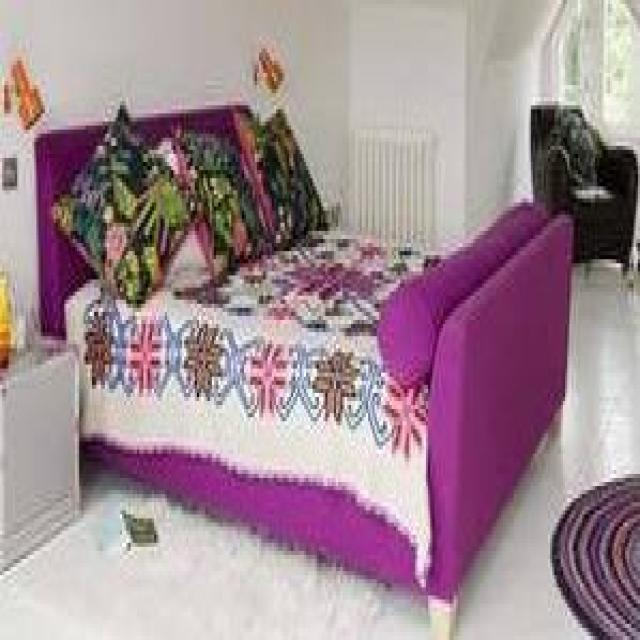bed: (36, 101, 572, 622)
